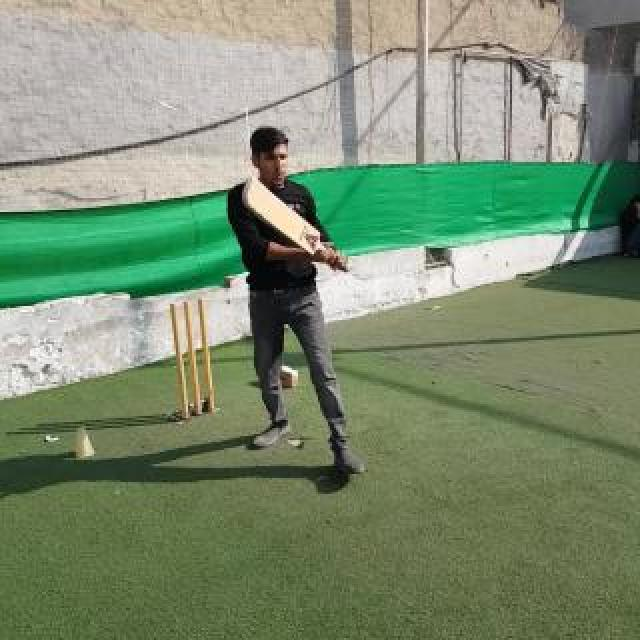bat: (242, 176, 350, 272)
